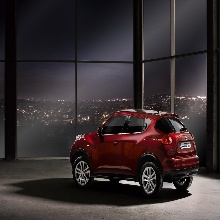no damage: (69, 108, 200, 197)
